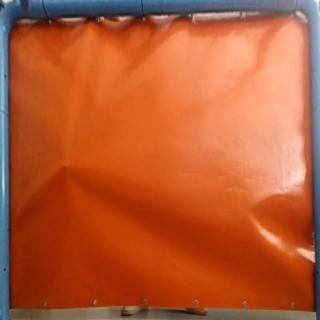Hit-hRxx: (56, 157, 78, 174)
